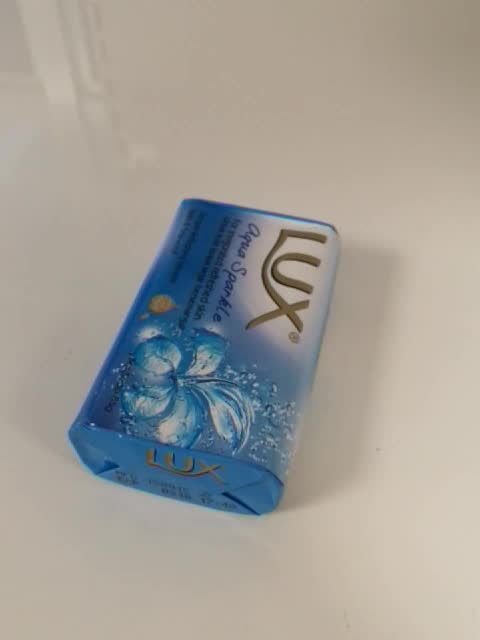soap: (64, 196, 346, 520)
